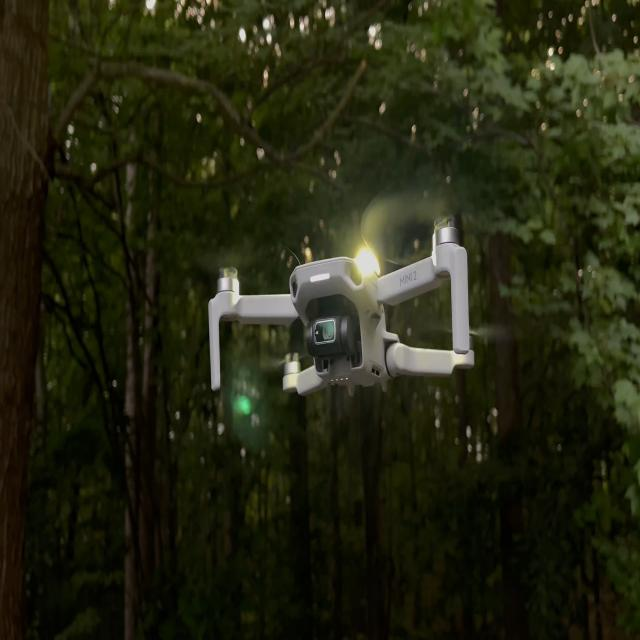Drone: (207, 225, 475, 394)
